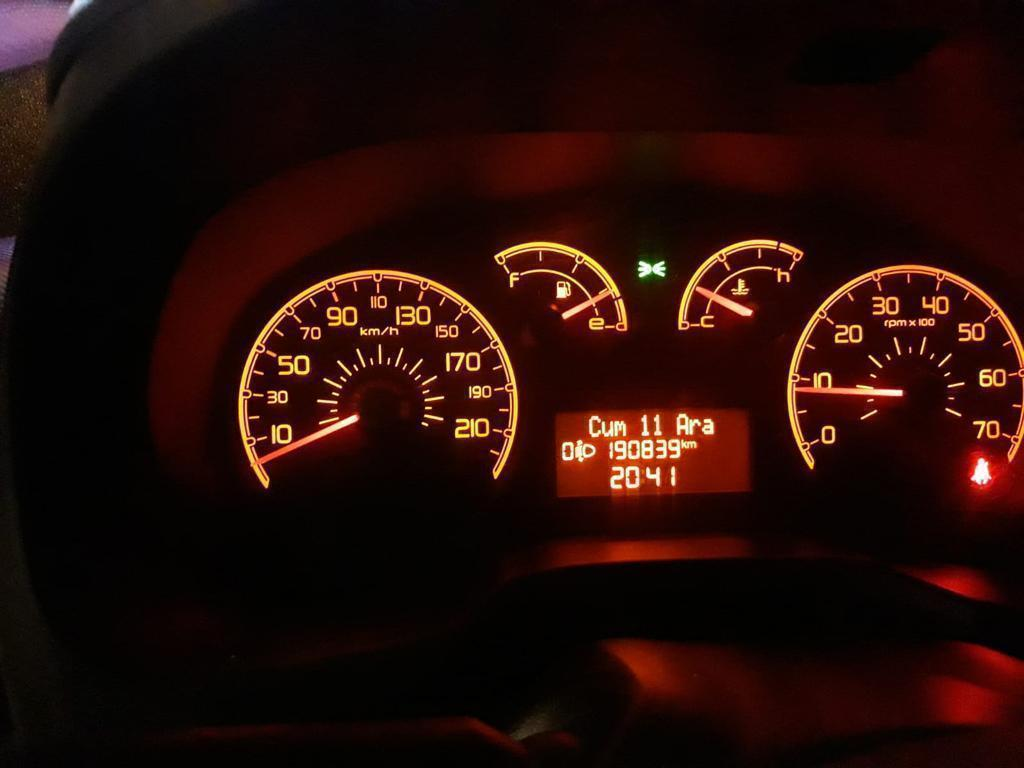0: (624, 464, 639, 489), (560, 439, 575, 461), (627, 439, 639, 460)
1: (638, 413, 650, 438), (652, 413, 663, 437), (668, 463, 677, 488), (606, 440, 614, 460)
2: (609, 465, 624, 489)
3: (655, 439, 666, 459)
4: (645, 466, 661, 488)
8: (641, 439, 654, 459)
9: (666, 438, 680, 459), (614, 439, 626, 461)
X: (674, 411, 689, 436), (587, 414, 601, 438), (601, 419, 614, 438), (701, 417, 714, 435), (689, 416, 701, 435), (614, 419, 626, 437), (640, 468, 645, 485), (687, 440, 696, 449), (681, 438, 687, 449)
odometer: (551, 403, 753, 500)
